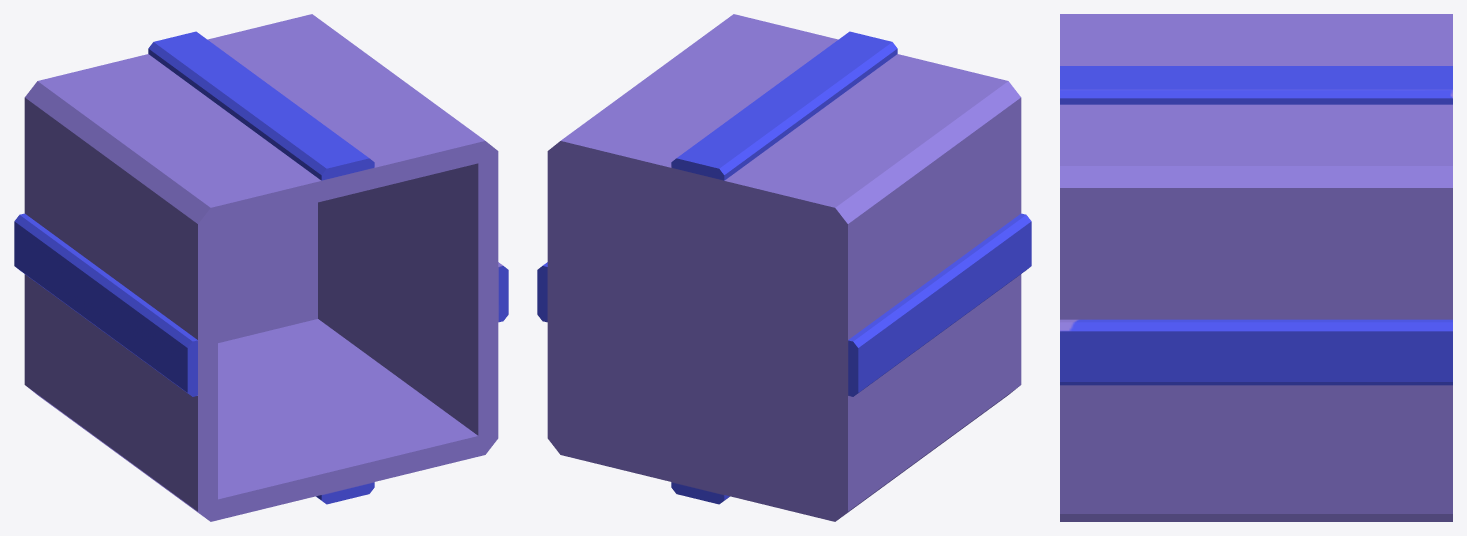
3 views of the same model, side by side, from view 1: azimuth 30°, elevation 25°; view 2: azimuth 150°, elevation 25°; view 3: azimuth 270°, elevation 25° (orthographic). The views are drawn at different scales.
Visible parts, largest first — view 1: Cube; view 2: Cube; view 3: Cube.
Part boxes in pixels (x1=…): Cube: x1=14, y1=14, x2=508, y2=521; Cube: x1=537, y1=14, x2=1031, y2=521; Cube: x1=1060, y1=14, x2=1452, y2=521.
Size of the model in its own units: 2.14 by 2.14 by 2.
Materials: 2 (1 with a texture image).
